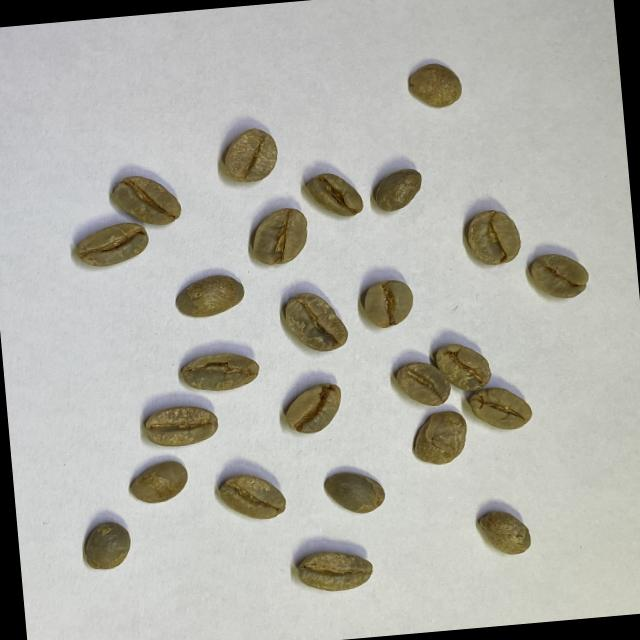bad: (180, 347, 260, 394), (302, 168, 366, 224), (432, 338, 492, 396), (468, 382, 533, 434)
good: (280, 290, 351, 358), (109, 171, 183, 230), (246, 205, 312, 268), (295, 546, 375, 596), (72, 220, 150, 270), (215, 470, 286, 524), (408, 408, 470, 468), (220, 126, 282, 186), (280, 378, 344, 436), (172, 272, 245, 322), (463, 206, 523, 266), (526, 248, 590, 304), (142, 403, 218, 449), (403, 58, 465, 114), (322, 468, 388, 517), (392, 358, 452, 411), (126, 458, 190, 507), (360, 276, 416, 332), (474, 508, 532, 558), (81, 518, 132, 571), (370, 167, 424, 214)
